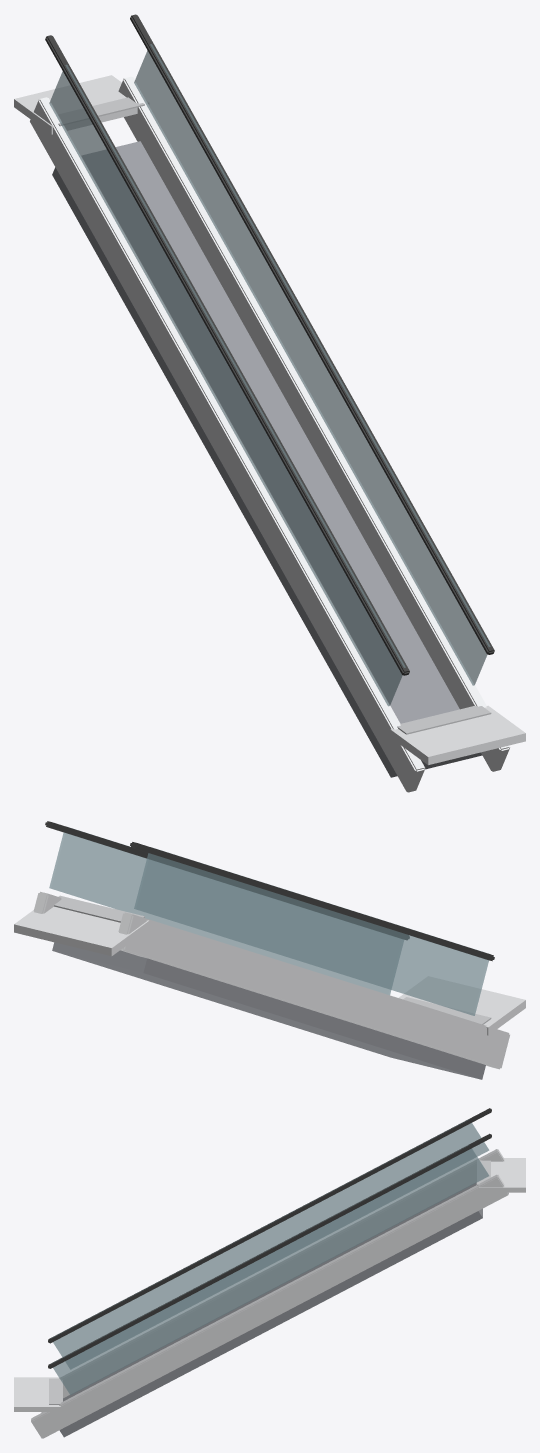
File: escalator_frame.glb
3 views of the same model, one above another, from view 1: azimuth 30°, elevation 25°; view 2: azimuth 150°, elevation 25°; view 3: azimuth 270°, elevation 25° (orthographic). The views are drawn at different scales.
Parts seen in each view (by area): view 1: escalator_frame; view 2: escalator_frame; view 3: escalator_frame.
Boxes of the visible parts, x1,y1,x2,y2 form: escalator_frame: (14,14,525,792); escalator_frame: (14,821,525,1079); escalator_frame: (14,1108,525,1438).
Size of the model in its own units: 1.5 by 7.19 by 11.
